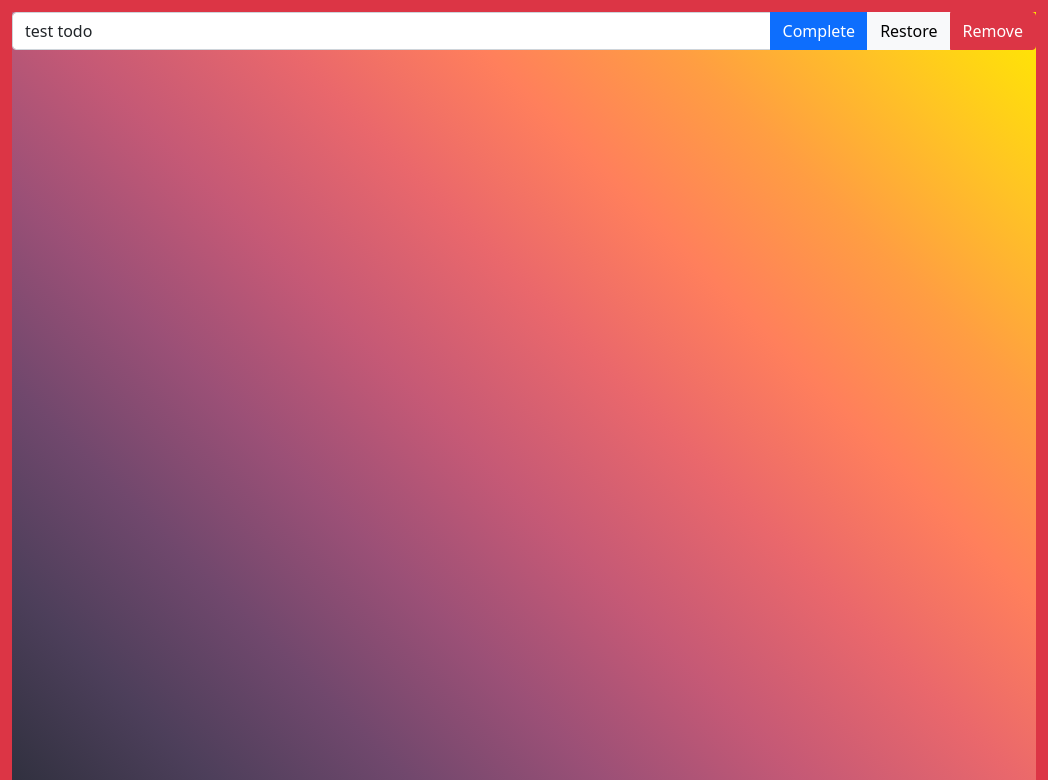
Test case: should don`t change the value of todo if the user clear entire text
Clear the field: (391, 31) [12,12,771,50]
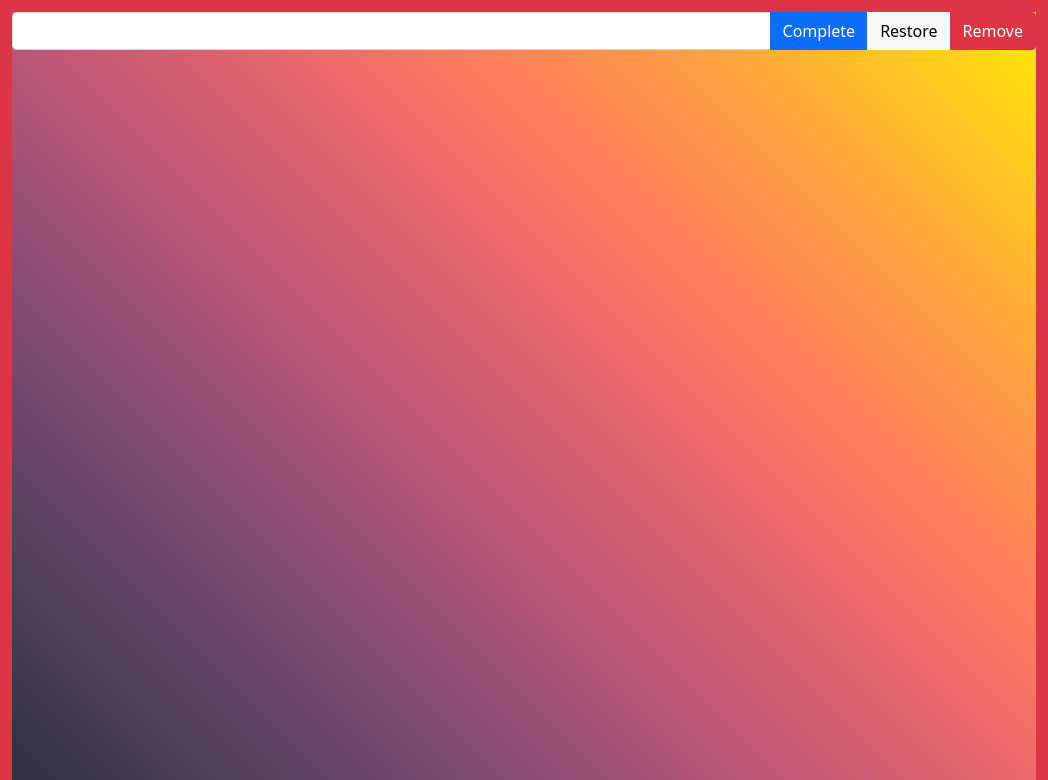
Leave the field, box [12,12,771,50]
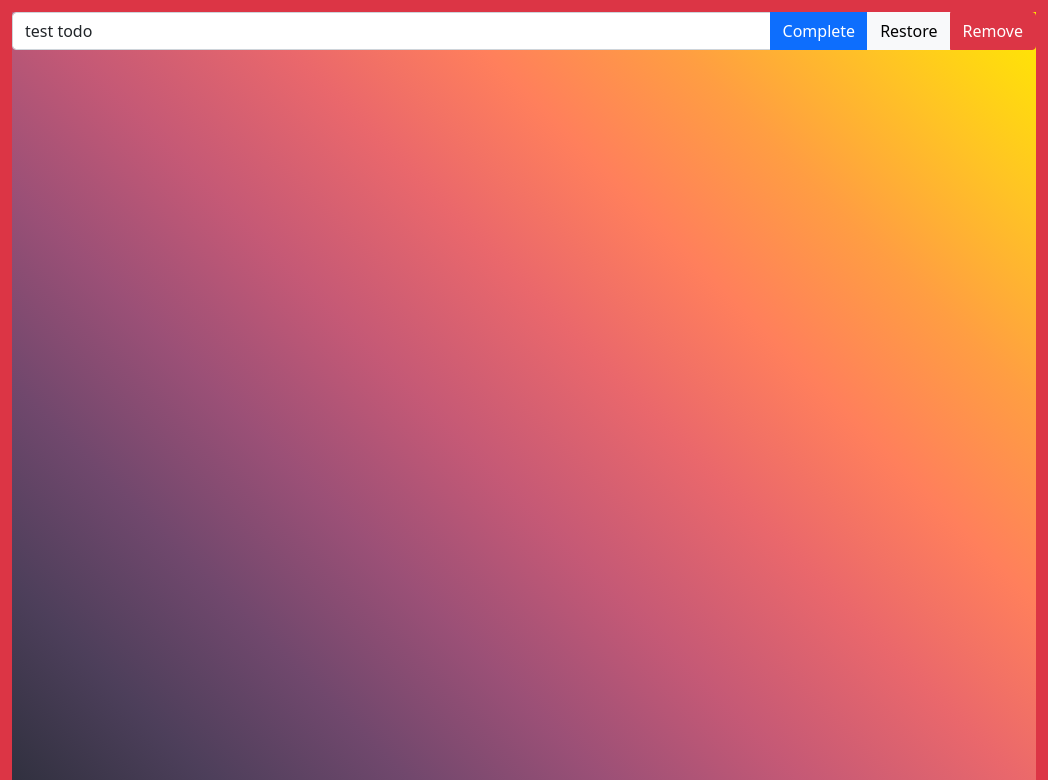
Check: the field holds "test todo", box [12,12,771,50]
